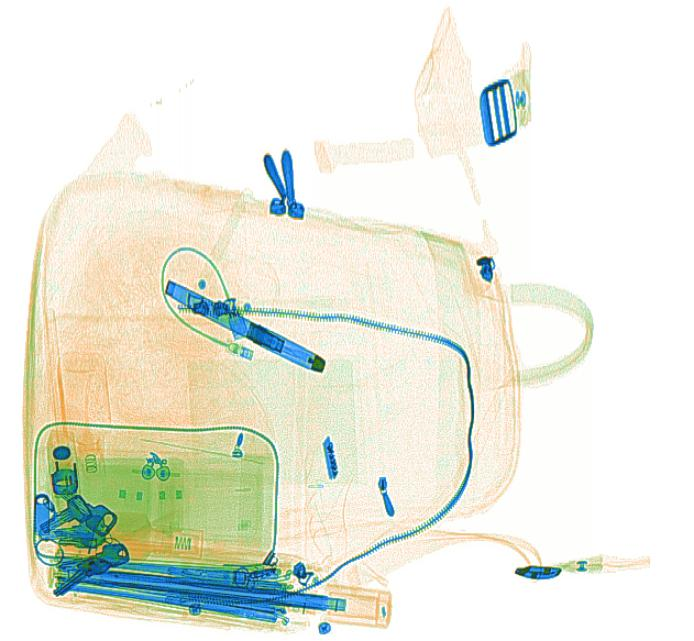plasticBottleWithaNozzle: (49, 506, 205, 568)
